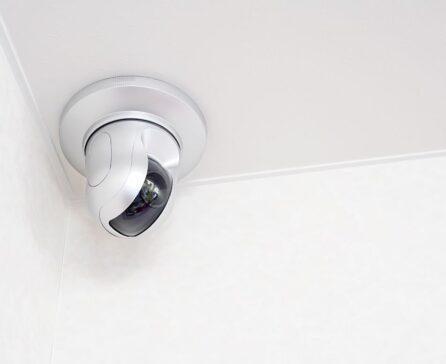maru: (80, 118, 186, 241)
